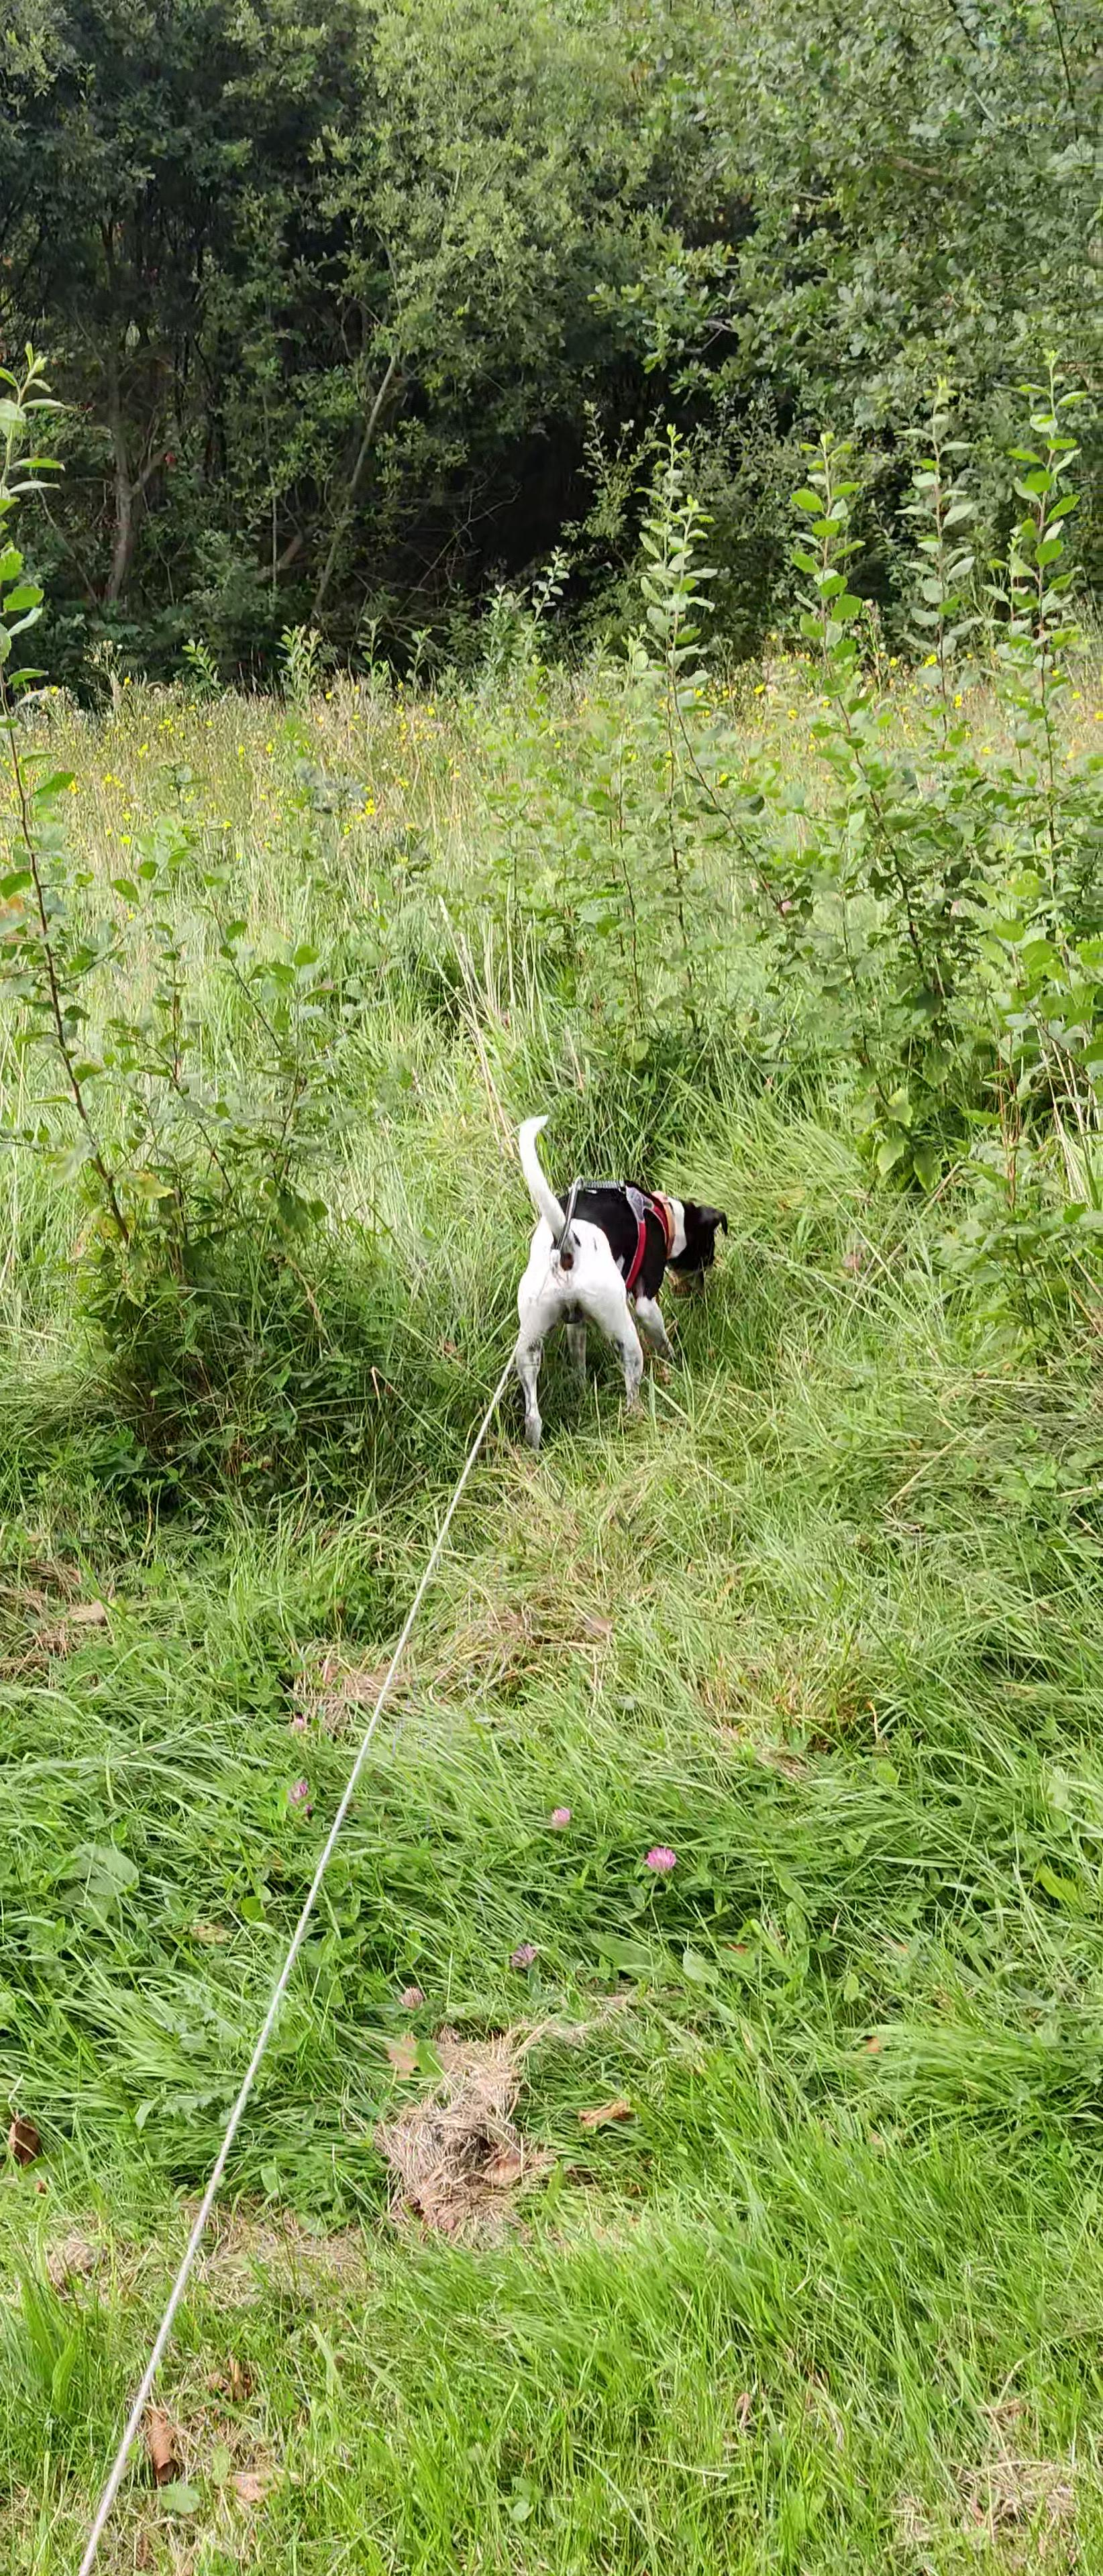Dog: (510, 1106, 735, 1452)
